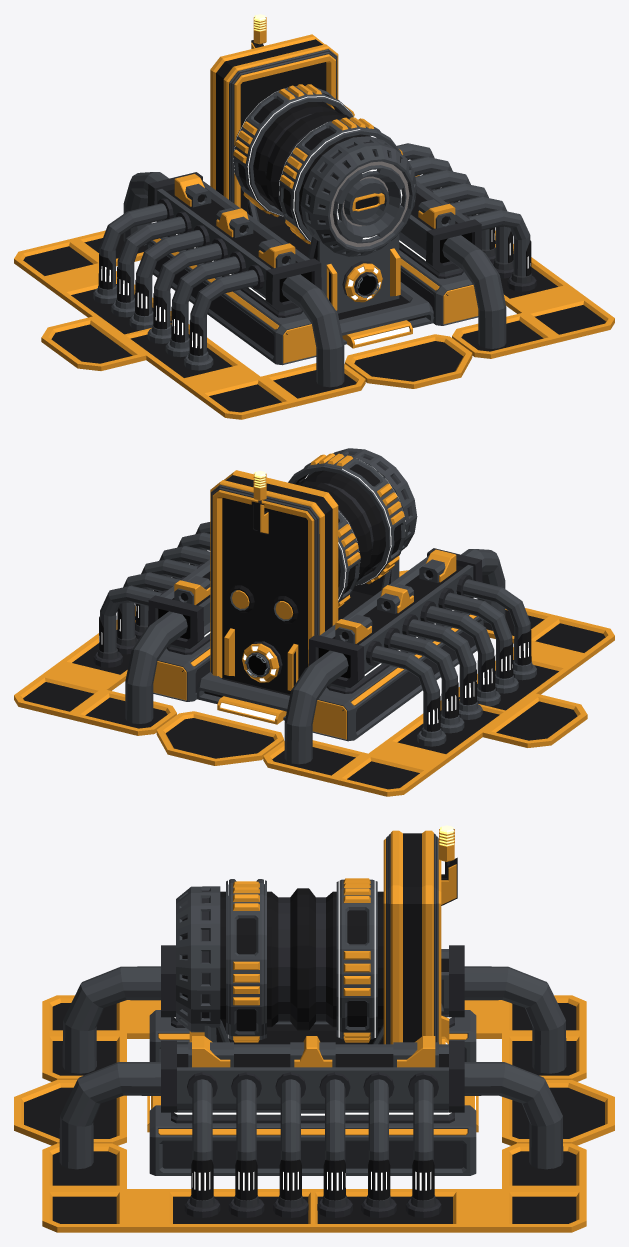
Rendered from SM_Water_boiler.glb.
3 renders of one model, top to bottom at view 1: azimuth 30°, elevation 25°; view 2: azimuth 150°, elevation 25°; view 3: azimuth 270°, elevation 25°, orthographic. The views are drawn at different scales.
Parts seen in each view (by area): view 1: SM_Water_boiler, SM_Box_for_energy_cells.003, SM_Rotating_boiler_section; view 2: SM_Water_boiler, SM_Rotating_boiler_section, SM_Box_for_energy_cells.003; view 3: SM_Water_boiler, SM_Box_for_energy_cells.003, SM_Rotating_boiler_section.
Part boxes in pixels (x1=…): SM_Water_boiler: x1=14, y1=14, x2=614, y2=419; SM_Box_for_energy_cells.003: x1=233, y1=84, x2=354, y2=217; SM_Rotating_boiler_section: x1=278, y1=117, x2=402, y2=244; SM_Water_boiler: x1=14, y1=448, x2=614, y2=796; SM_Rotating_boiler_section: x1=288, y1=453, x2=405, y2=585; SM_Box_for_energy_cells.003: x1=338, y1=510, x2=360, y2=607; SM_Water_boiler: x1=14, y1=825, x2=614, y2=1232; SM_Box_for_energy_cells.003: x1=336, y1=878, x2=377, y2=1042; SM_Rotating_boiler_section: x1=226, y1=879, x2=266, y2=1042.
Size of the model in its own units: 14.99 by 7.55 by 14.23.
3 materials, 1 textured.
